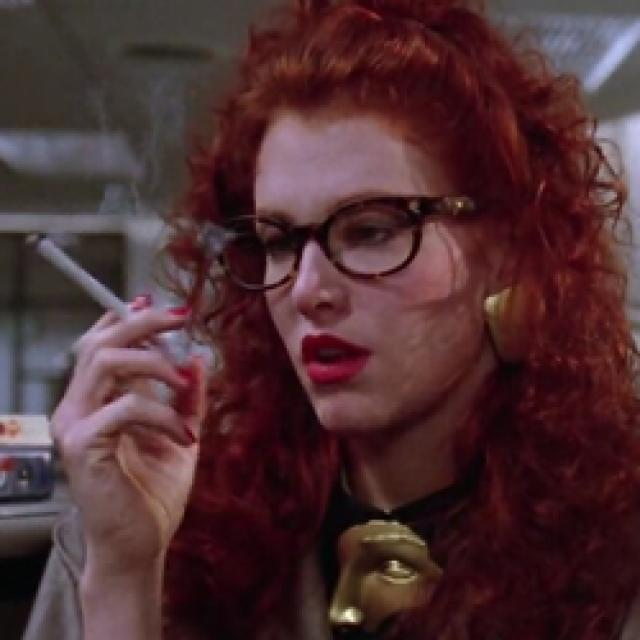Smooking: (12, 218, 165, 337)
